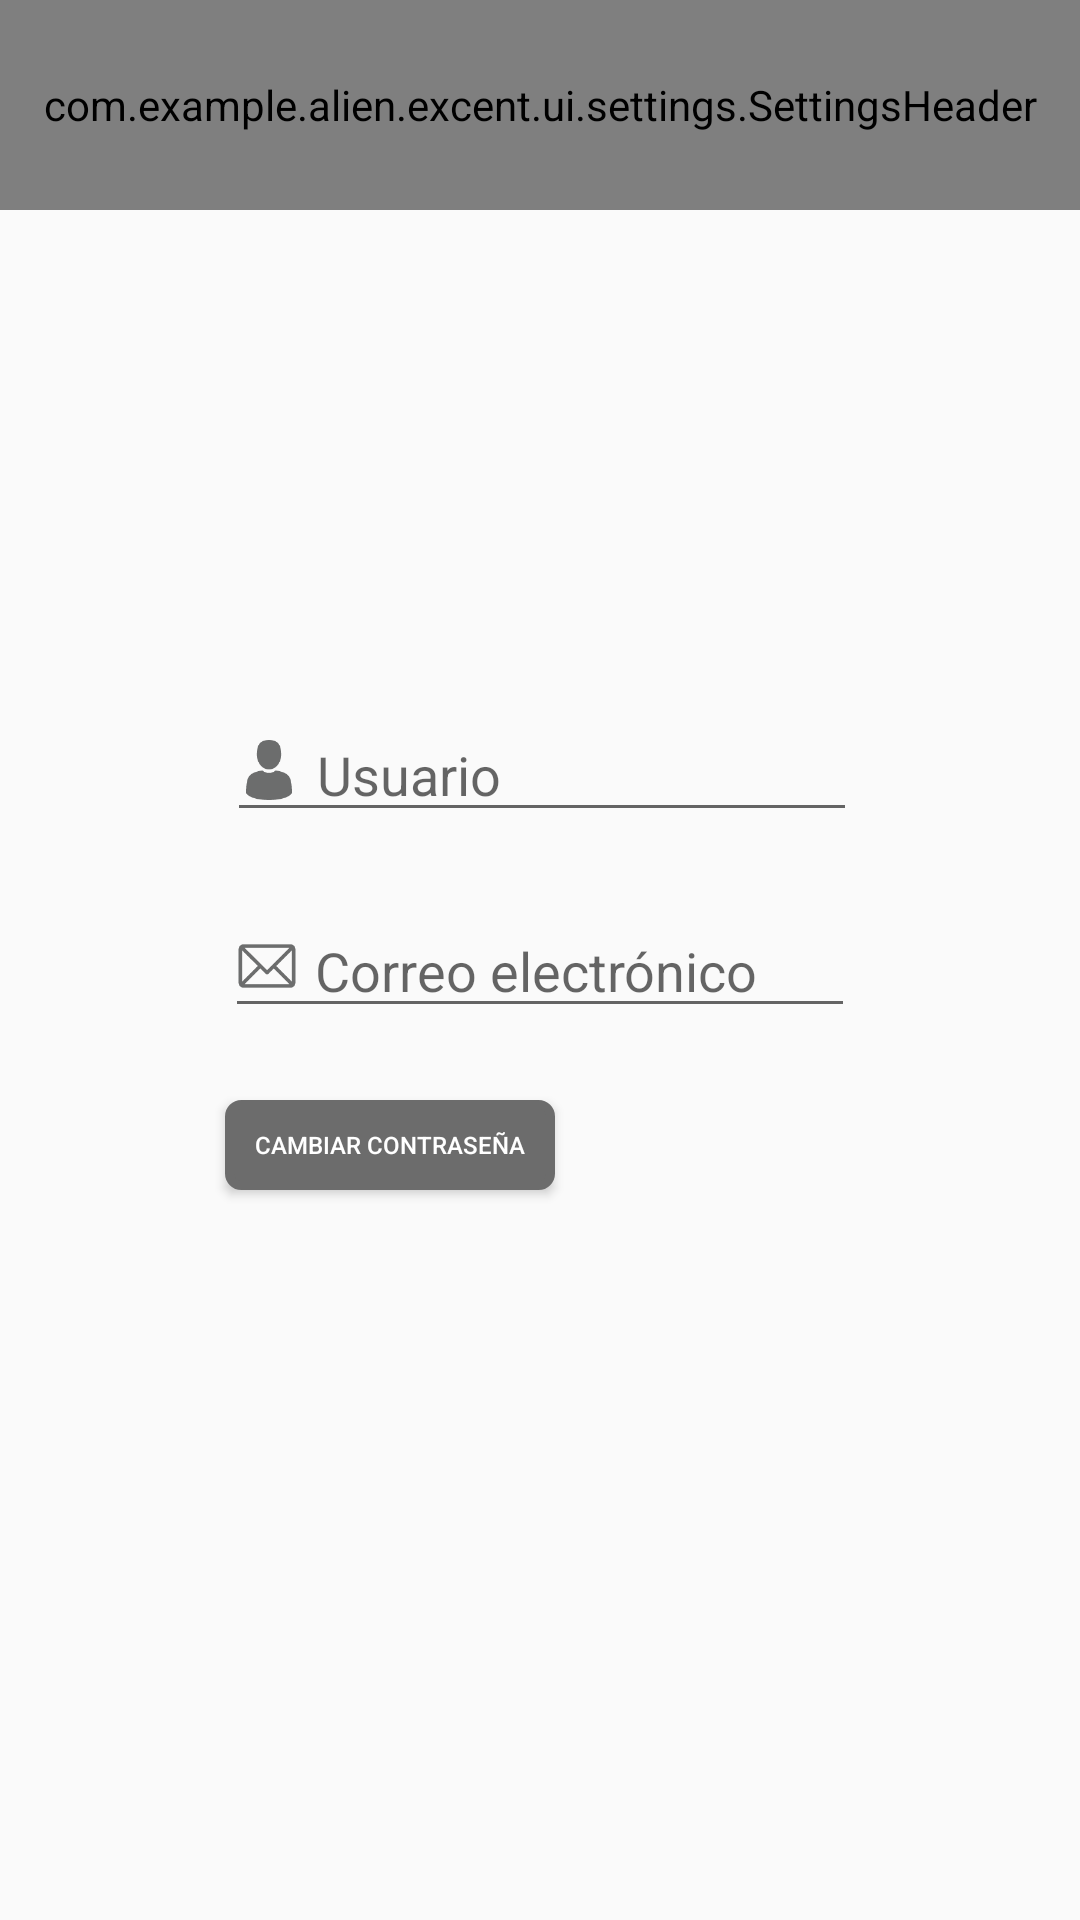

Icon bounding boxes for this 1080*1920 phone screenshot, format {"x1": x1, "y1": y1, "x2": x2, "y2": y2}:
email: {"x1": 238, "y1": 944, "x2": 296, "y2": 988}
user: {"x1": 246, "y1": 740, "x2": 292, "y2": 800}
